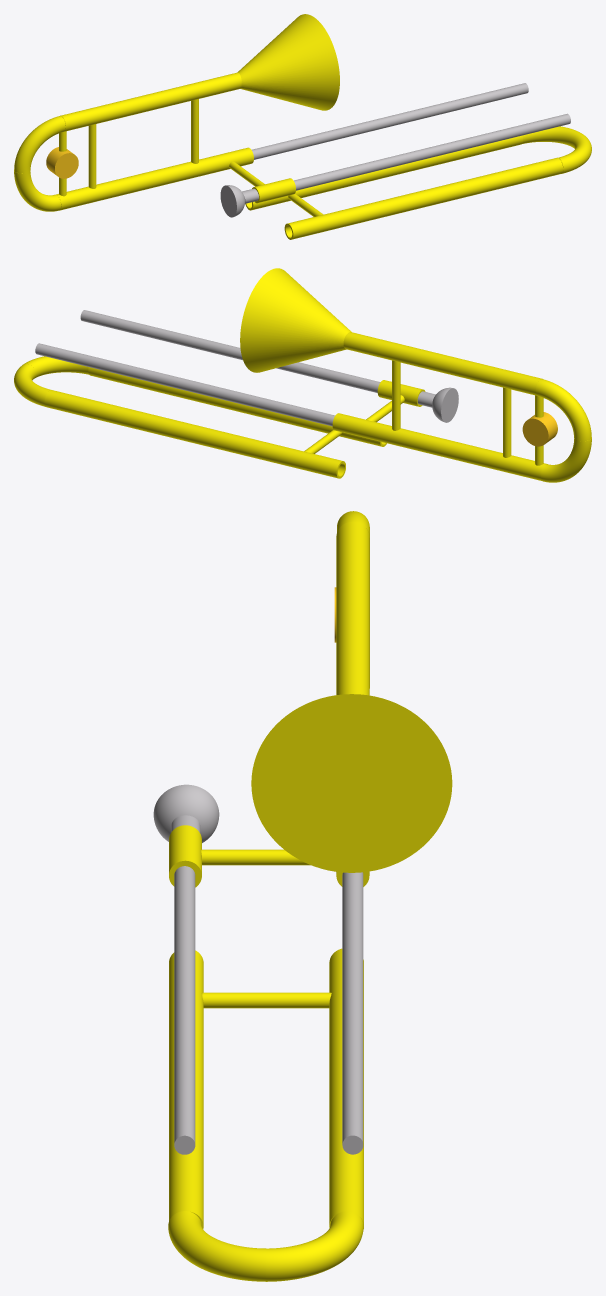
The model's file is trombonematte.fbx.
3 views of the same model, one above another, from view 1: azimuth 30°, elevation 25°; view 2: azimuth 150°, elevation 25°; view 3: azimuth 270°, elevation 25° (orthographic). The views are drawn at different scales.
Visible parts, largest first — view 1: root (×17); view 2: root (×18); view 3: root (×12).
Boxes of the visible parts, x1,y1,x2,y2 form: root (×17): [14, 14, 591, 239]; root (×18): [14, 268, 591, 482]; root (×12): [153, 521, 452, 1281].
Bounding box in the file's own units: 1.5 × 0.4555 × 0.3526.
Materials: 20 (20 with a texture image).
